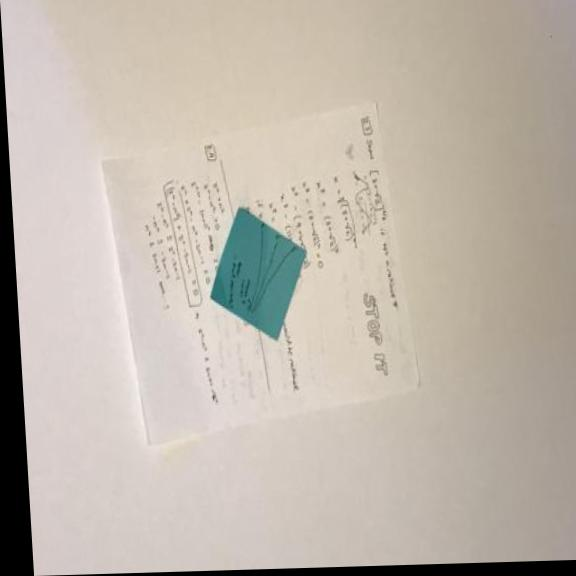Kertas: (93, 87, 434, 449)
